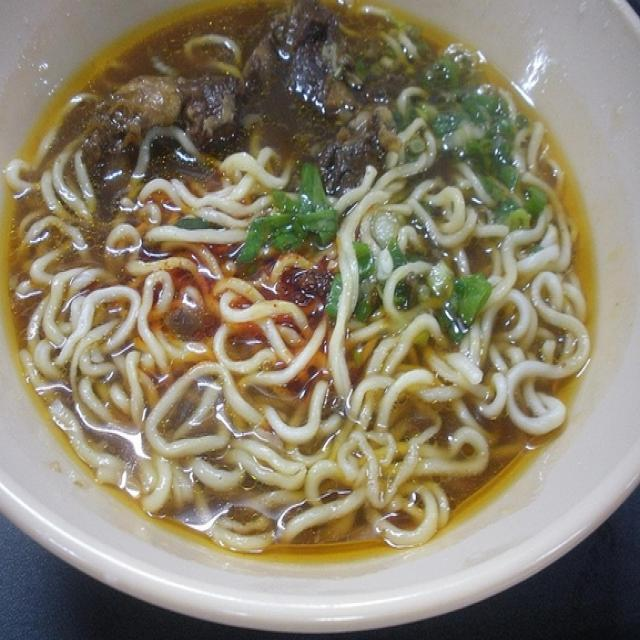面条主食: (3, 13, 629, 634)
